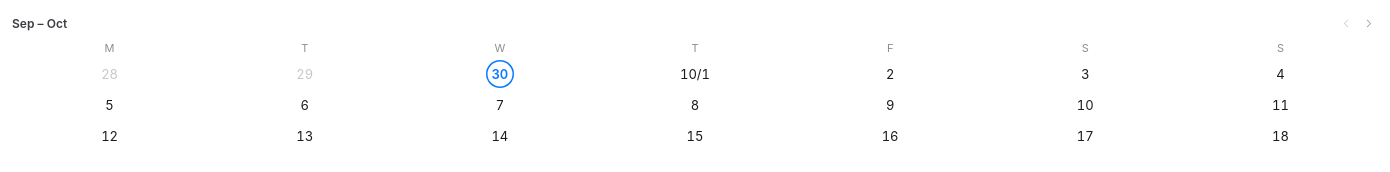
Test case: MiniCalendar (en) › English weekday heads, month names and pager labels with plurals
This screenshot has width=1390, height=172.
Check: the text "Sep – Oct" is shown, box [12,16,67,30]
Check: the button named "Previous 3 weeks" is shown, box [1336,13,1356,33]
Click the button named "Next 3 weeks": (1368, 23) [1358,13,1378,33]
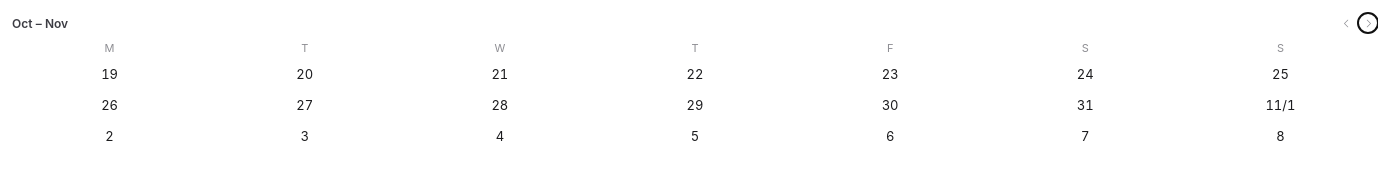
Check: the text "Oct – Nov" is shown, box [12,16,68,30]
